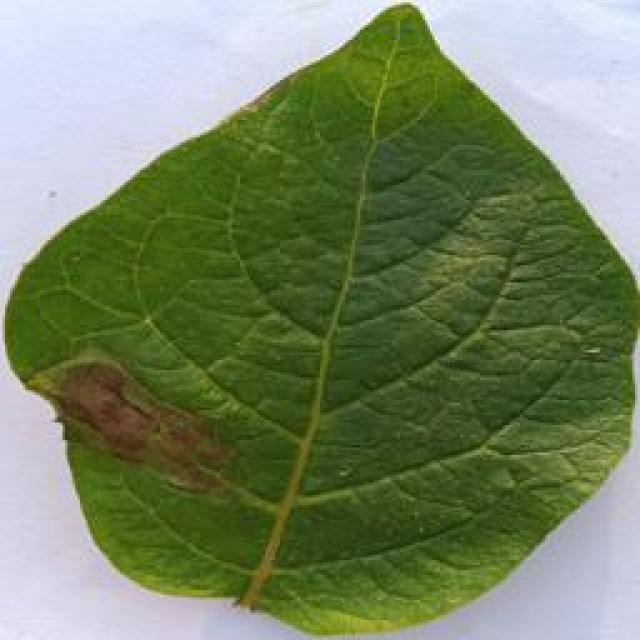Potato_Late_Blight: (4, 12, 634, 638)
